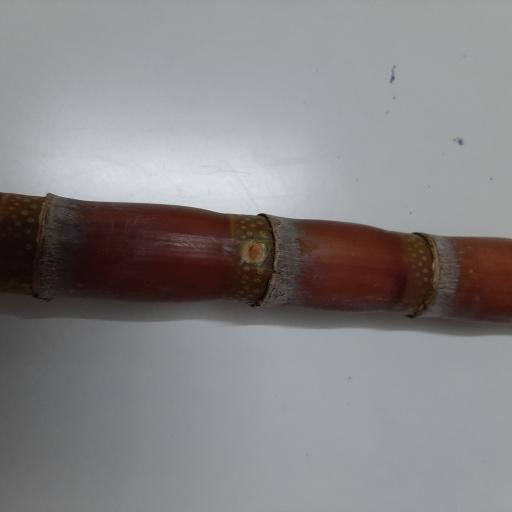Damage_Bud: (235, 240, 266, 267)
